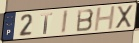2: (18, 14, 34, 37)
B: (75, 8, 95, 33)
H: (93, 5, 117, 33)
I: (60, 9, 69, 35)
T: (40, 12, 54, 35)
X: (115, 4, 134, 31)
